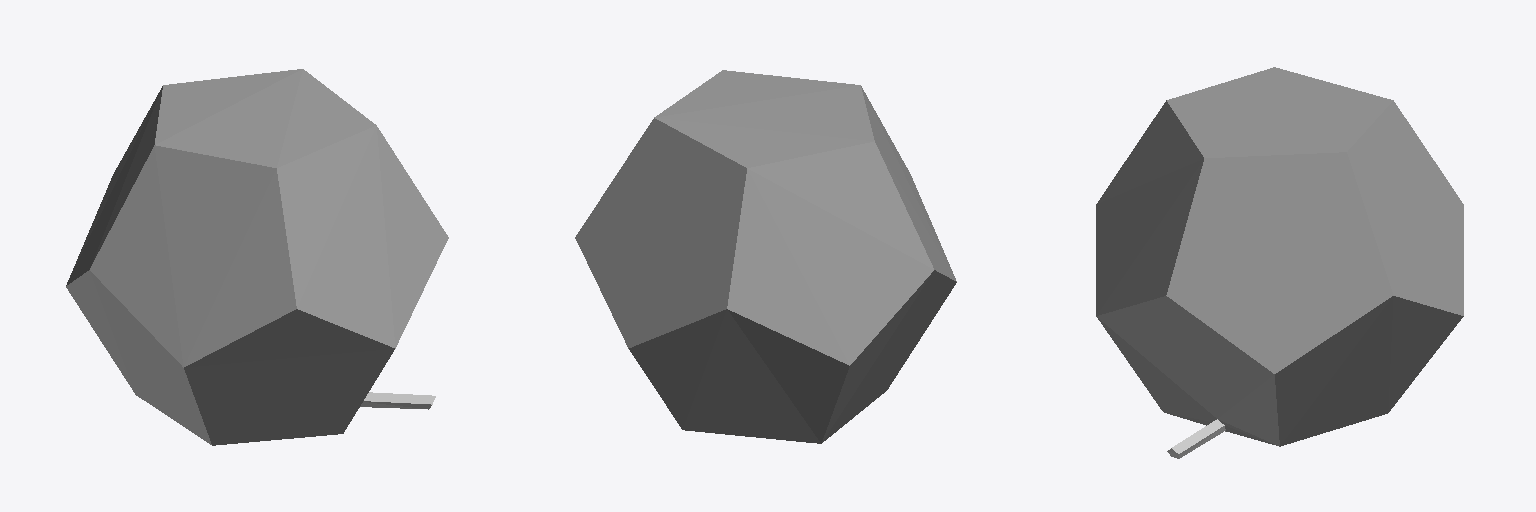
The model's file is arenaSPtextured.obj.
3 renders of one model, left to right at view 1: azimuth 30°, elevation 25°; view 2: azimuth 150°, elevation 25°; view 3: azimuth 270°, elevation 25°, orthographic.
Parts seen in each view (by area): view 1: Arena_Sphere_Icosphere, Tunnel_Icosphere.002; view 2: Arena_Sphere_Icosphere; view 3: Arena_Sphere_Icosphere, Tunnel_Icosphere.002.
Part boxes in pixels (left/top/right/bottom): Arena_Sphere_Icosphere: left=66, top=69, right=448, bottom=445; Tunnel_Icosphere.002: left=360, top=392, right=435, bottom=409; Arena_Sphere_Icosphere: left=575, top=70, right=956, bottom=443; Arena_Sphere_Icosphere: left=1096, top=67, right=1463, bottom=446; Tunnel_Icosphere.002: left=1167, top=419, right=1225, bottom=458.
Bounding box in the file's own units: 1.56 × 1.28 × 1.49.